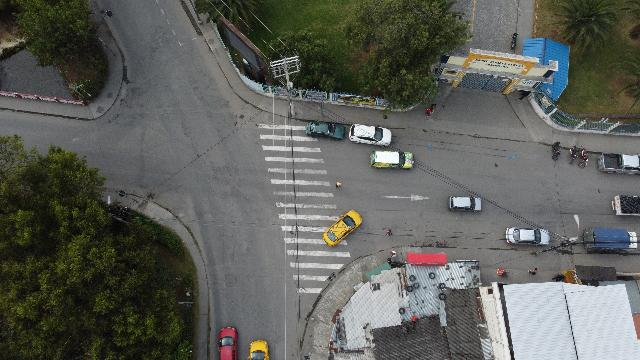Vehiculo: (322, 210, 362, 246), (348, 125, 392, 147), (598, 153, 640, 175), (370, 150, 414, 170), (506, 226, 550, 246), (306, 121, 344, 140), (218, 327, 238, 359), (448, 196, 482, 212), (248, 340, 268, 360)
